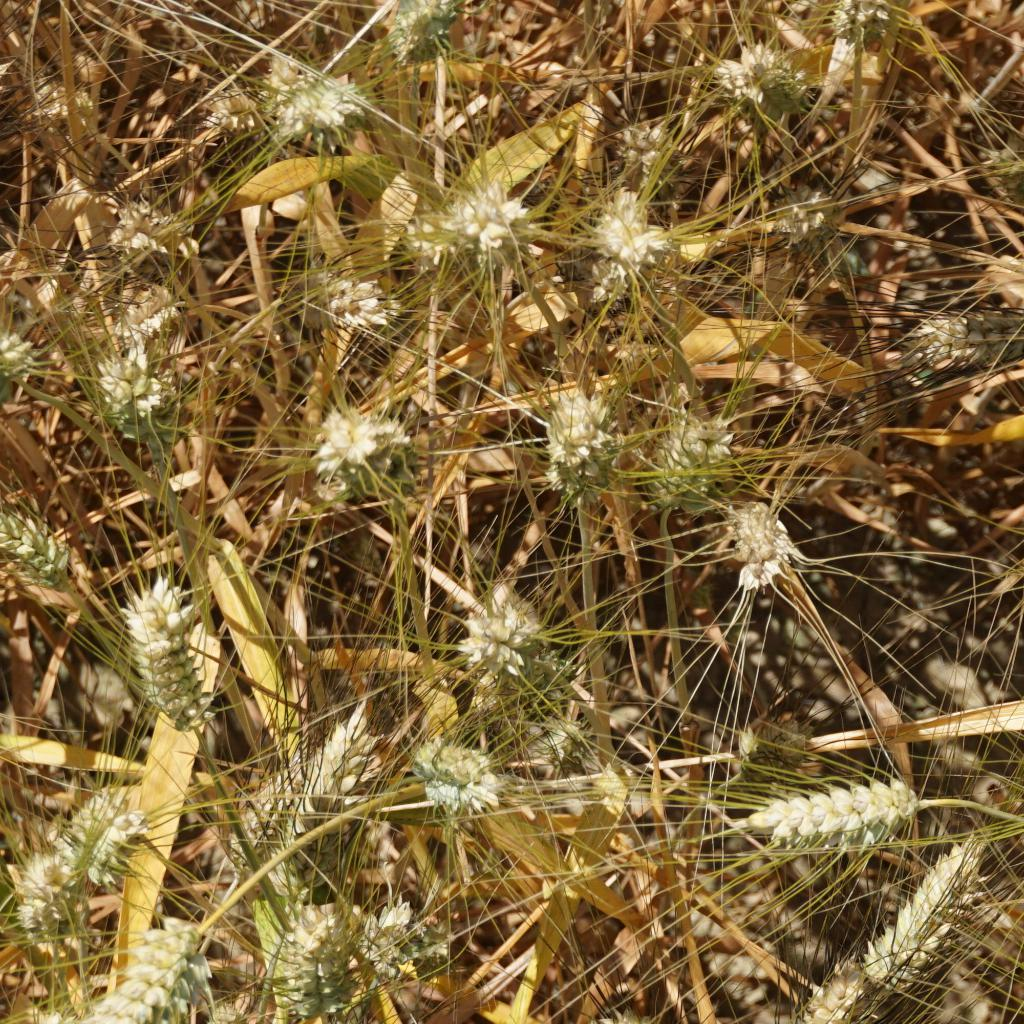0-0: (224, 712, 358, 850), (397, 722, 541, 833), (724, 763, 909, 846), (65, 919, 208, 1024), (120, 574, 208, 716), (868, 846, 978, 956), (314, 401, 423, 498), (582, 193, 673, 299), (49, 781, 134, 886), (279, 888, 354, 1004), (265, 49, 368, 132), (649, 401, 740, 494), (0, 476, 78, 579), (299, 242, 391, 326), (512, 691, 598, 779), (90, 330, 163, 433), (435, 169, 523, 253), (362, 902, 442, 990), (15, 840, 80, 947), (709, 19, 787, 108), (464, 588, 543, 675), (716, 488, 799, 567), (739, 694, 824, 771), (539, 374, 596, 480), (900, 307, 986, 374), (100, 200, 190, 262), (770, 174, 838, 256), (779, 954, 856, 1024), (595, 114, 686, 171), (569, 980, 683, 1024), (397, 0, 460, 62), (0, 301, 39, 391), (836, 0, 894, 56), (18, 1007, 66, 1024)
